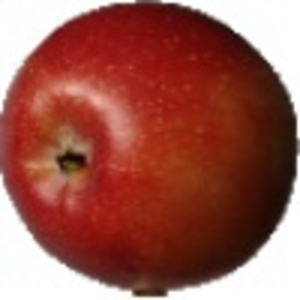maçã braeburn: (1, 1, 299, 285)
